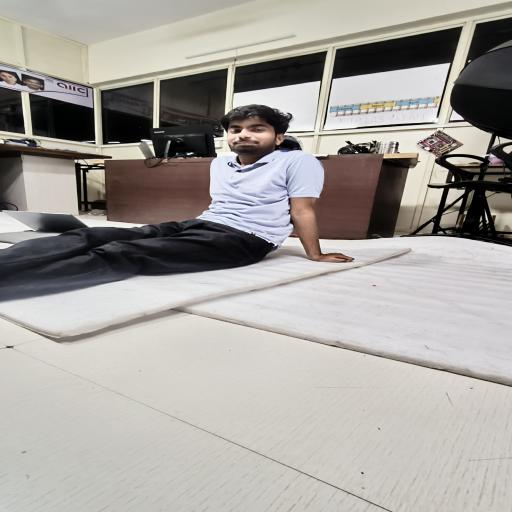survivor: (0, 104, 356, 303)
